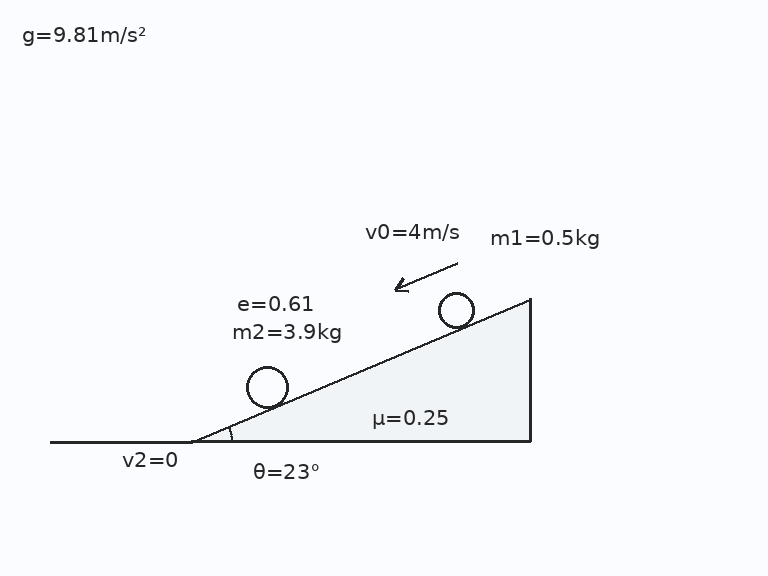ball: (244, 364, 290, 410), (436, 290, 476, 330)
ramp: (190, 297, 532, 444)
